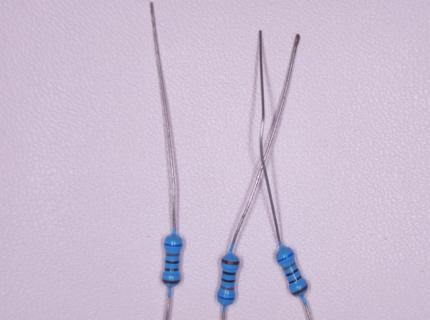Black band: (289, 276, 302, 285), (286, 268, 299, 277), (222, 271, 236, 276), (221, 279, 236, 283), (165, 260, 179, 264), (165, 268, 179, 271)
Blue band: (277, 251, 294, 262), (164, 242, 183, 248), (217, 294, 235, 300)
Brown band: (291, 285, 308, 296), (222, 259, 240, 265), (162, 279, 181, 284)
Grey band: (282, 262, 296, 271), (220, 285, 235, 291), (165, 253, 180, 257)
